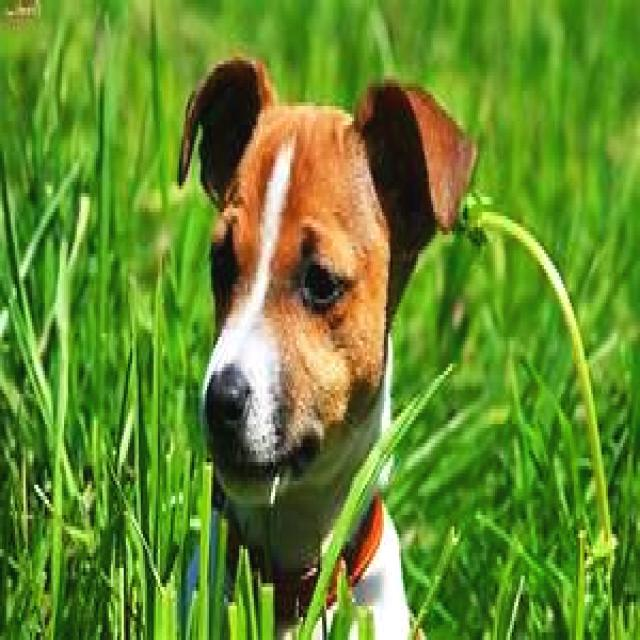KOPEK: (158, 35, 484, 640)
